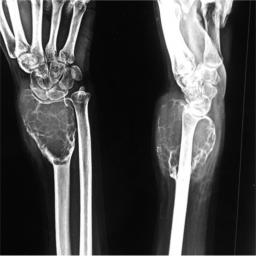cancer: (152, 98, 215, 184), (18, 88, 78, 166)
